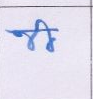i_matra: (38, 19, 55, 52)
